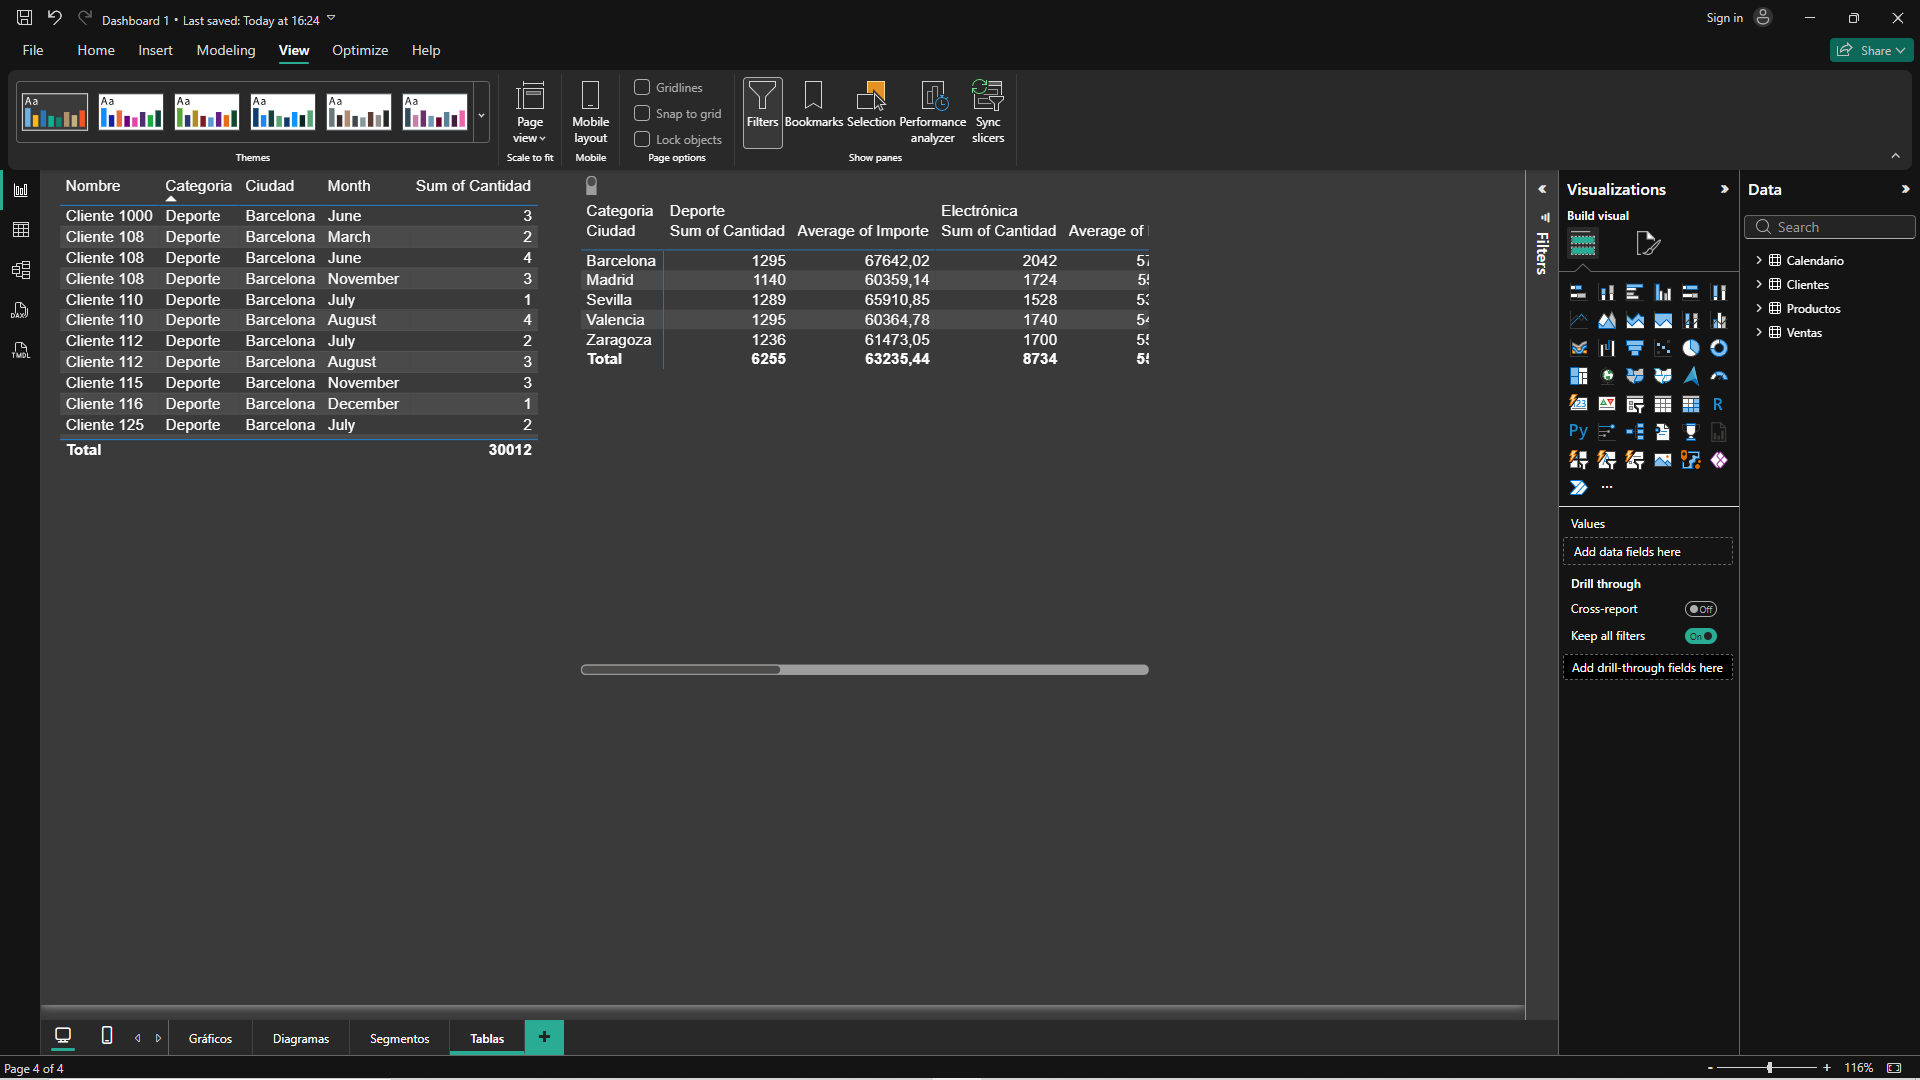

Layout of this report page (visuals, bound fields, positions):
{"tool":"powerbi","page":{"name":"Tablas","canvas":[1280,720],"ordinal":3},"visuals":[{"type":"tableEx","fields":{"Values":["Clientes.Nombre","Productos.Categoria","Clientes.Ciudad","Ventas.Fecha.Variation.Date Hierarchy.Month","Sum(Ventas.Cantidad)"]},"box":[10,0,473.8,255.4],"z":0},{"type":"pivotTable","fields":{"Values":["Sum(Ventas.Cantidad)","Avg(Ventas.Importe)"],"Columns":["Productos.Categoria"],"Rows":["Clientes.Ciudad"]},"box":[460.8,21.5,500,419.2],"z":1}]}

Visuals, with their boxes on the page's 1280x720 design canvas (x1, y1, x2, y2). These are canvas units, not pixel positions in the 1920x1080 screenshot, which may show the page scaled, cropped or inside an application window:
tableEx - Clientes.Nombre x Productos.Categoria: bbox=(10, 0, 484, 255)
pivotTable - Sum(Ventas.Cantidad) x Avg(Ventas.Importe): bbox=(461, 22, 961, 441)
